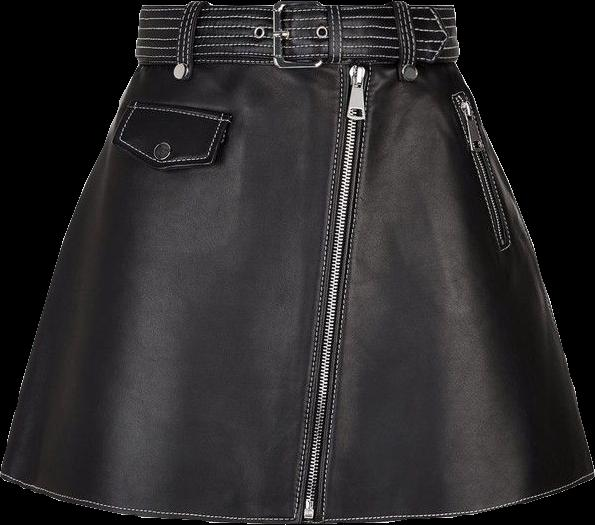Hemline: (0, 473, 594, 524)
Waistline: (134, 56, 460, 68), (140, 2, 452, 10)
